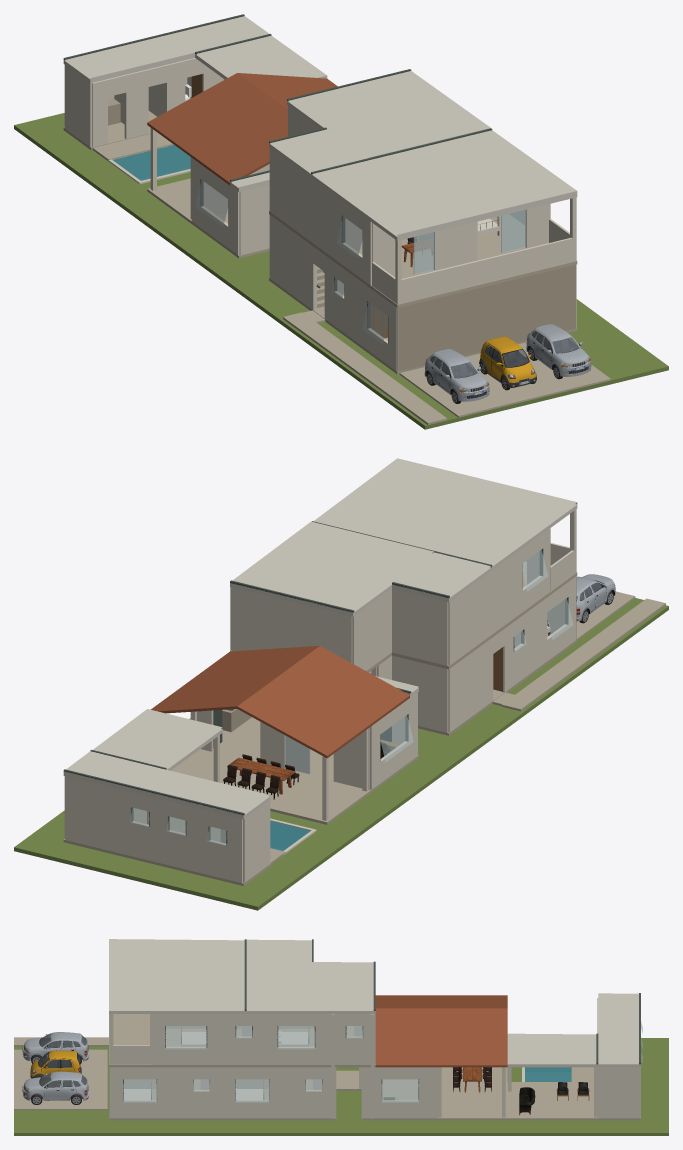
Rendered from CASA-MOBILIADA.glb.
3 renders of one model, top to bottom at view 1: azimuth 30°, elevation 25°; view 2: azimuth 150°, elevation 25°; view 3: azimuth 270°, elevation 25°, orthographic. The views are drawn at different scales.
Parts seen in each view (by area): view 1: Caimento Bloco íntimo / varanda rio, Terreno natural, Parede terreo, Cobertura duas aguas, Caimento Suítes posteriores, Parede superior.011, Caimento Apoio de fundos, Piso externo unificado, Guarda varanda frontal, Piso laje superior, Caimento Quiosque, Parede terreo.015 (+33 smaller); view 2: Cobertura duas aguas, Caimento Bloco íntimo / varanda rio, Caimento Suítes posteriores, Terreno natural, Piso laje terreo, Terreno natural.001, Parede superior.037, Caimento Apoio de fundos, Parede superior.011, Parede terreo.094, Caimento Quiosque, Parede superior.038 (+30 smaller); view 3: Terreno natural, Cobertura duas aguas, Caimento Bloco íntimo / varanda rio, Piso laje terreo, Caimento Suítes posteriores, Terreno natural.001, Caimento Apoio de fundos, Piso laje superior, Caimento Quiosque, Parede terreo.053, Parede terreo.045, Parede terreo.039 (+53 smaller).
Boxes of the visible parts, x1,y1,x2,y2 form: Caimento Bloco íntimo / varanda rio: [312, 130, 577, 237]; Terreno natural: [106, 172, 668, 429]; Parede terreo: [398, 264, 575, 371]; Cobertura duas aguas: [147, 73, 337, 185]; Caimento Suítes posteriores: [288, 71, 490, 158]; Parede superior.011: [269, 148, 341, 263]; Caimento Apoio de fundos: [65, 16, 269, 79]; Piso externo unificado: [92, 132, 447, 424]; Guarda varanda frontal: [401, 237, 572, 303]; Piso laje superior: [269, 211, 577, 307]; Caimento Quiosque: [197, 35, 327, 78]; Parede terreo.015: [269, 215, 316, 310]; Cobertura duas aguas: [151, 645, 409, 758]; Caimento Bloco íntimo / varanda rio: [314, 458, 577, 567]; Caimento Suítes posteriores: [230, 521, 433, 612]; Terreno natural: [189, 598, 668, 842]; Piso laje terreo: [63, 634, 577, 885]; Terreno natural.001: [14, 810, 317, 910]; Parede superior.037: [231, 587, 352, 662]; Caimento Apoio de fundos: [63, 751, 270, 815]; Parede superior.011: [448, 549, 521, 665]; Parede terreo.094: [65, 776, 131, 855]; Caimento Quiosque: [93, 709, 222, 768]; Parede superior.038: [392, 588, 448, 665]; Terreno natural: [14, 1046, 521, 1135]; Cobertura duas aguas: [375, 995, 507, 1067]; Caimento Bloco íntimo / varanda rio: [109, 939, 244, 1010]; Piso laje terreo: [109, 1067, 640, 1120]; Caimento Suítes posteriores: [246, 961, 373, 1010]; Terreno natural.001: [574, 1038, 668, 1135]; Caimento Apoio de fundos: [598, 993, 638, 1063]; Piso laje superior: [109, 1014, 375, 1067]; Caimento Quiosque: [507, 1033, 596, 1063]; Parede terreo.053: [598, 1067, 639, 1118]; Parede terreo.045: [269, 1067, 305, 1118]; Parede terreo.039: [157, 1067, 193, 1118].
Bounding box in the file's own units: 12 × 7.86 × 35.
62 materials, 21 textured.
